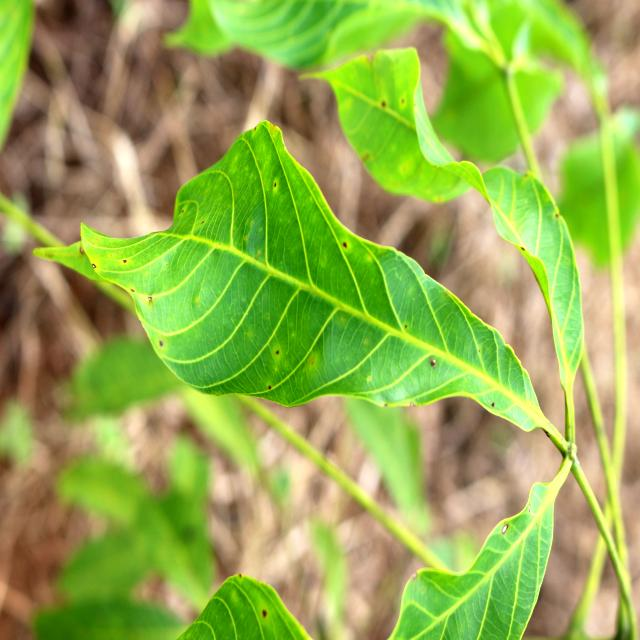Colletotrichum: (92, 263, 96, 269), (148, 297, 152, 301)
